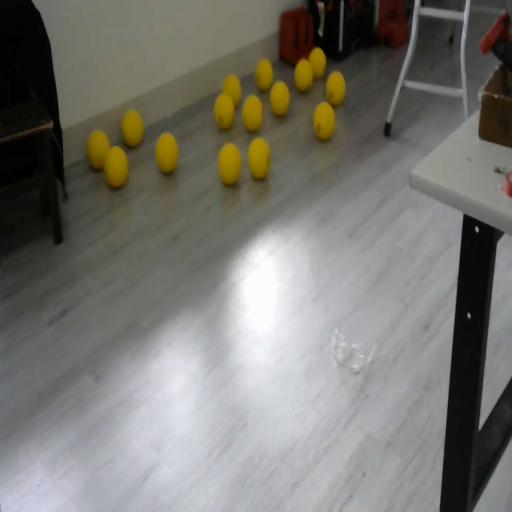FUEL: (103, 144, 129, 188), (218, 140, 242, 186), (154, 131, 179, 174), (247, 136, 271, 180), (120, 107, 144, 148), (86, 129, 110, 170), (312, 100, 336, 141), (213, 91, 235, 130), (242, 94, 264, 132), (325, 69, 346, 106), (270, 79, 290, 117), (254, 57, 274, 91), (294, 58, 314, 92), (308, 45, 327, 79)
